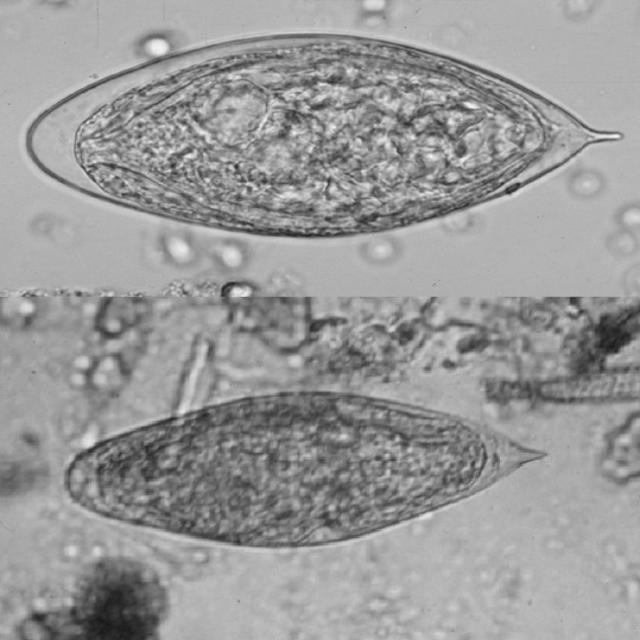Schistosoma: (19, 27, 633, 241), (52, 384, 554, 566)
